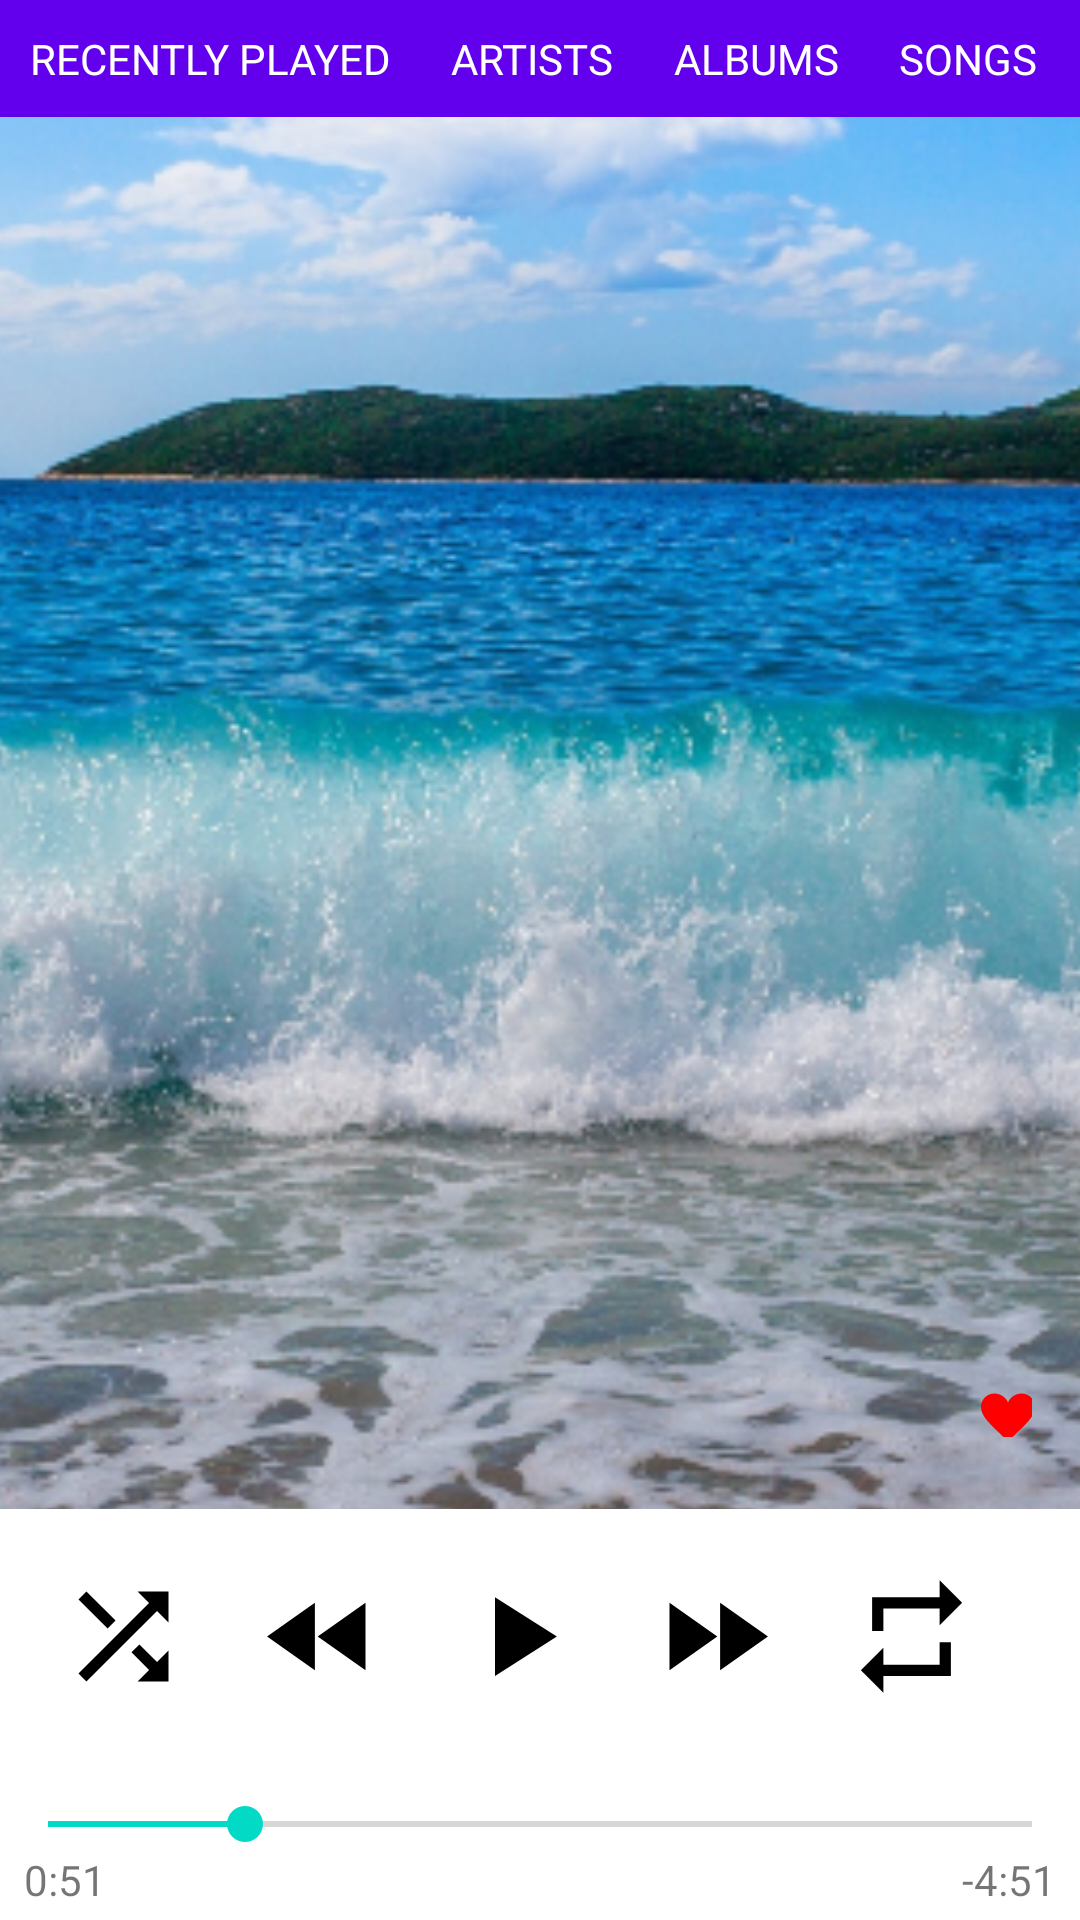

Named icons in this screenshot (1080px×1920px) and their bounding boxes, (x1, y1, x2, y2):
fast forward: (669, 1603, 768, 1670)
fast rewind: (267, 1603, 366, 1670)
repeat: (861, 1580, 962, 1693)
shuffle: (78, 1591, 169, 1682)
